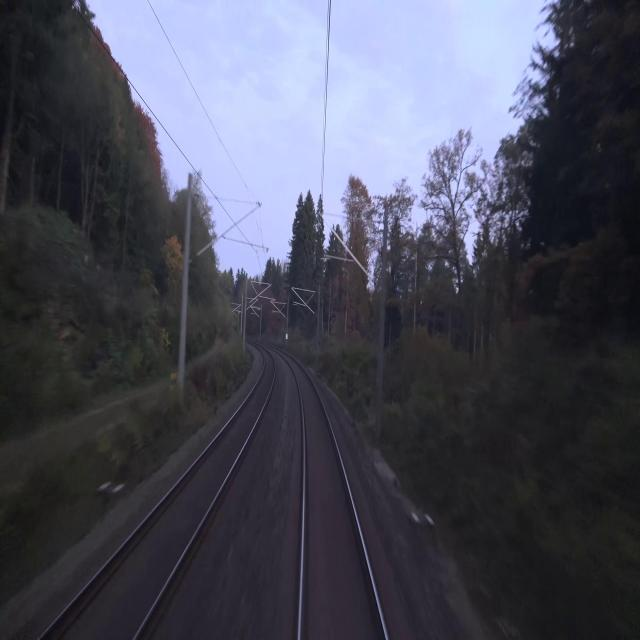rail-track: (44, 351, 273, 639), (289, 359, 385, 639)
